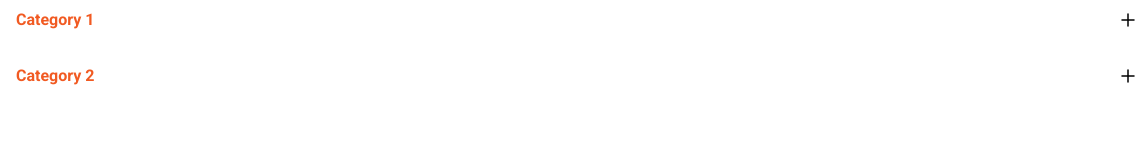
Test: handleCategoryOpen › closes a category if it is already open
Click the element with test id "collapse-menu-0" at point(1128, 20), box [1116,8,1140,32]
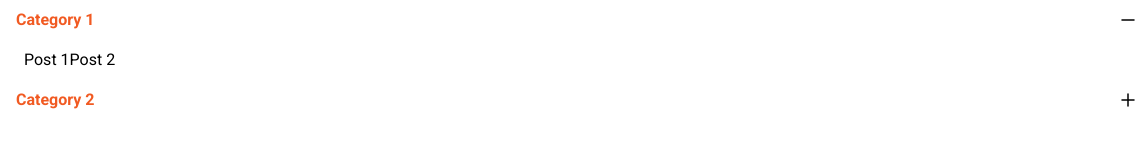
Click the element with test id "collapse-menu-0" at point(1128, 20), box [1116,8,1140,32]
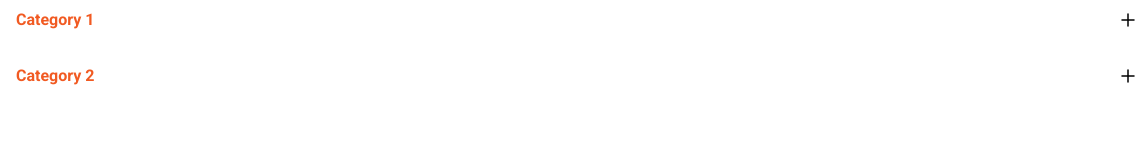
expect the link "Post 1" is gone: met
expect the link "Post 2" is gone: met
